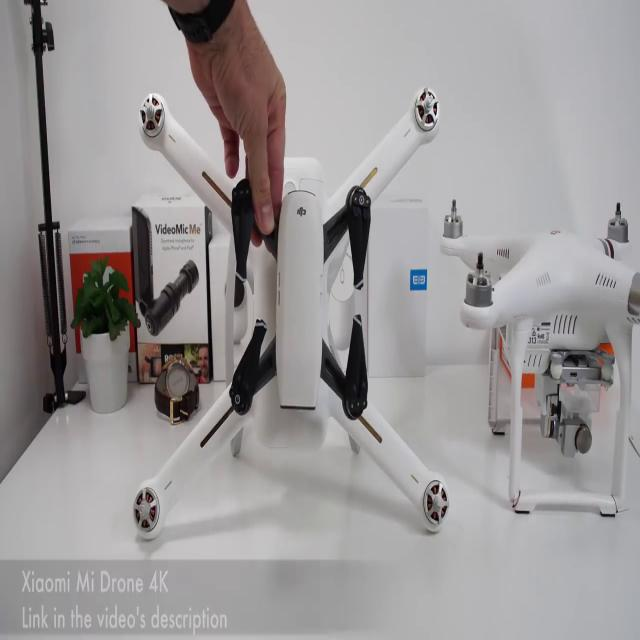drone: (125, 66, 463, 541), (434, 173, 640, 354)
